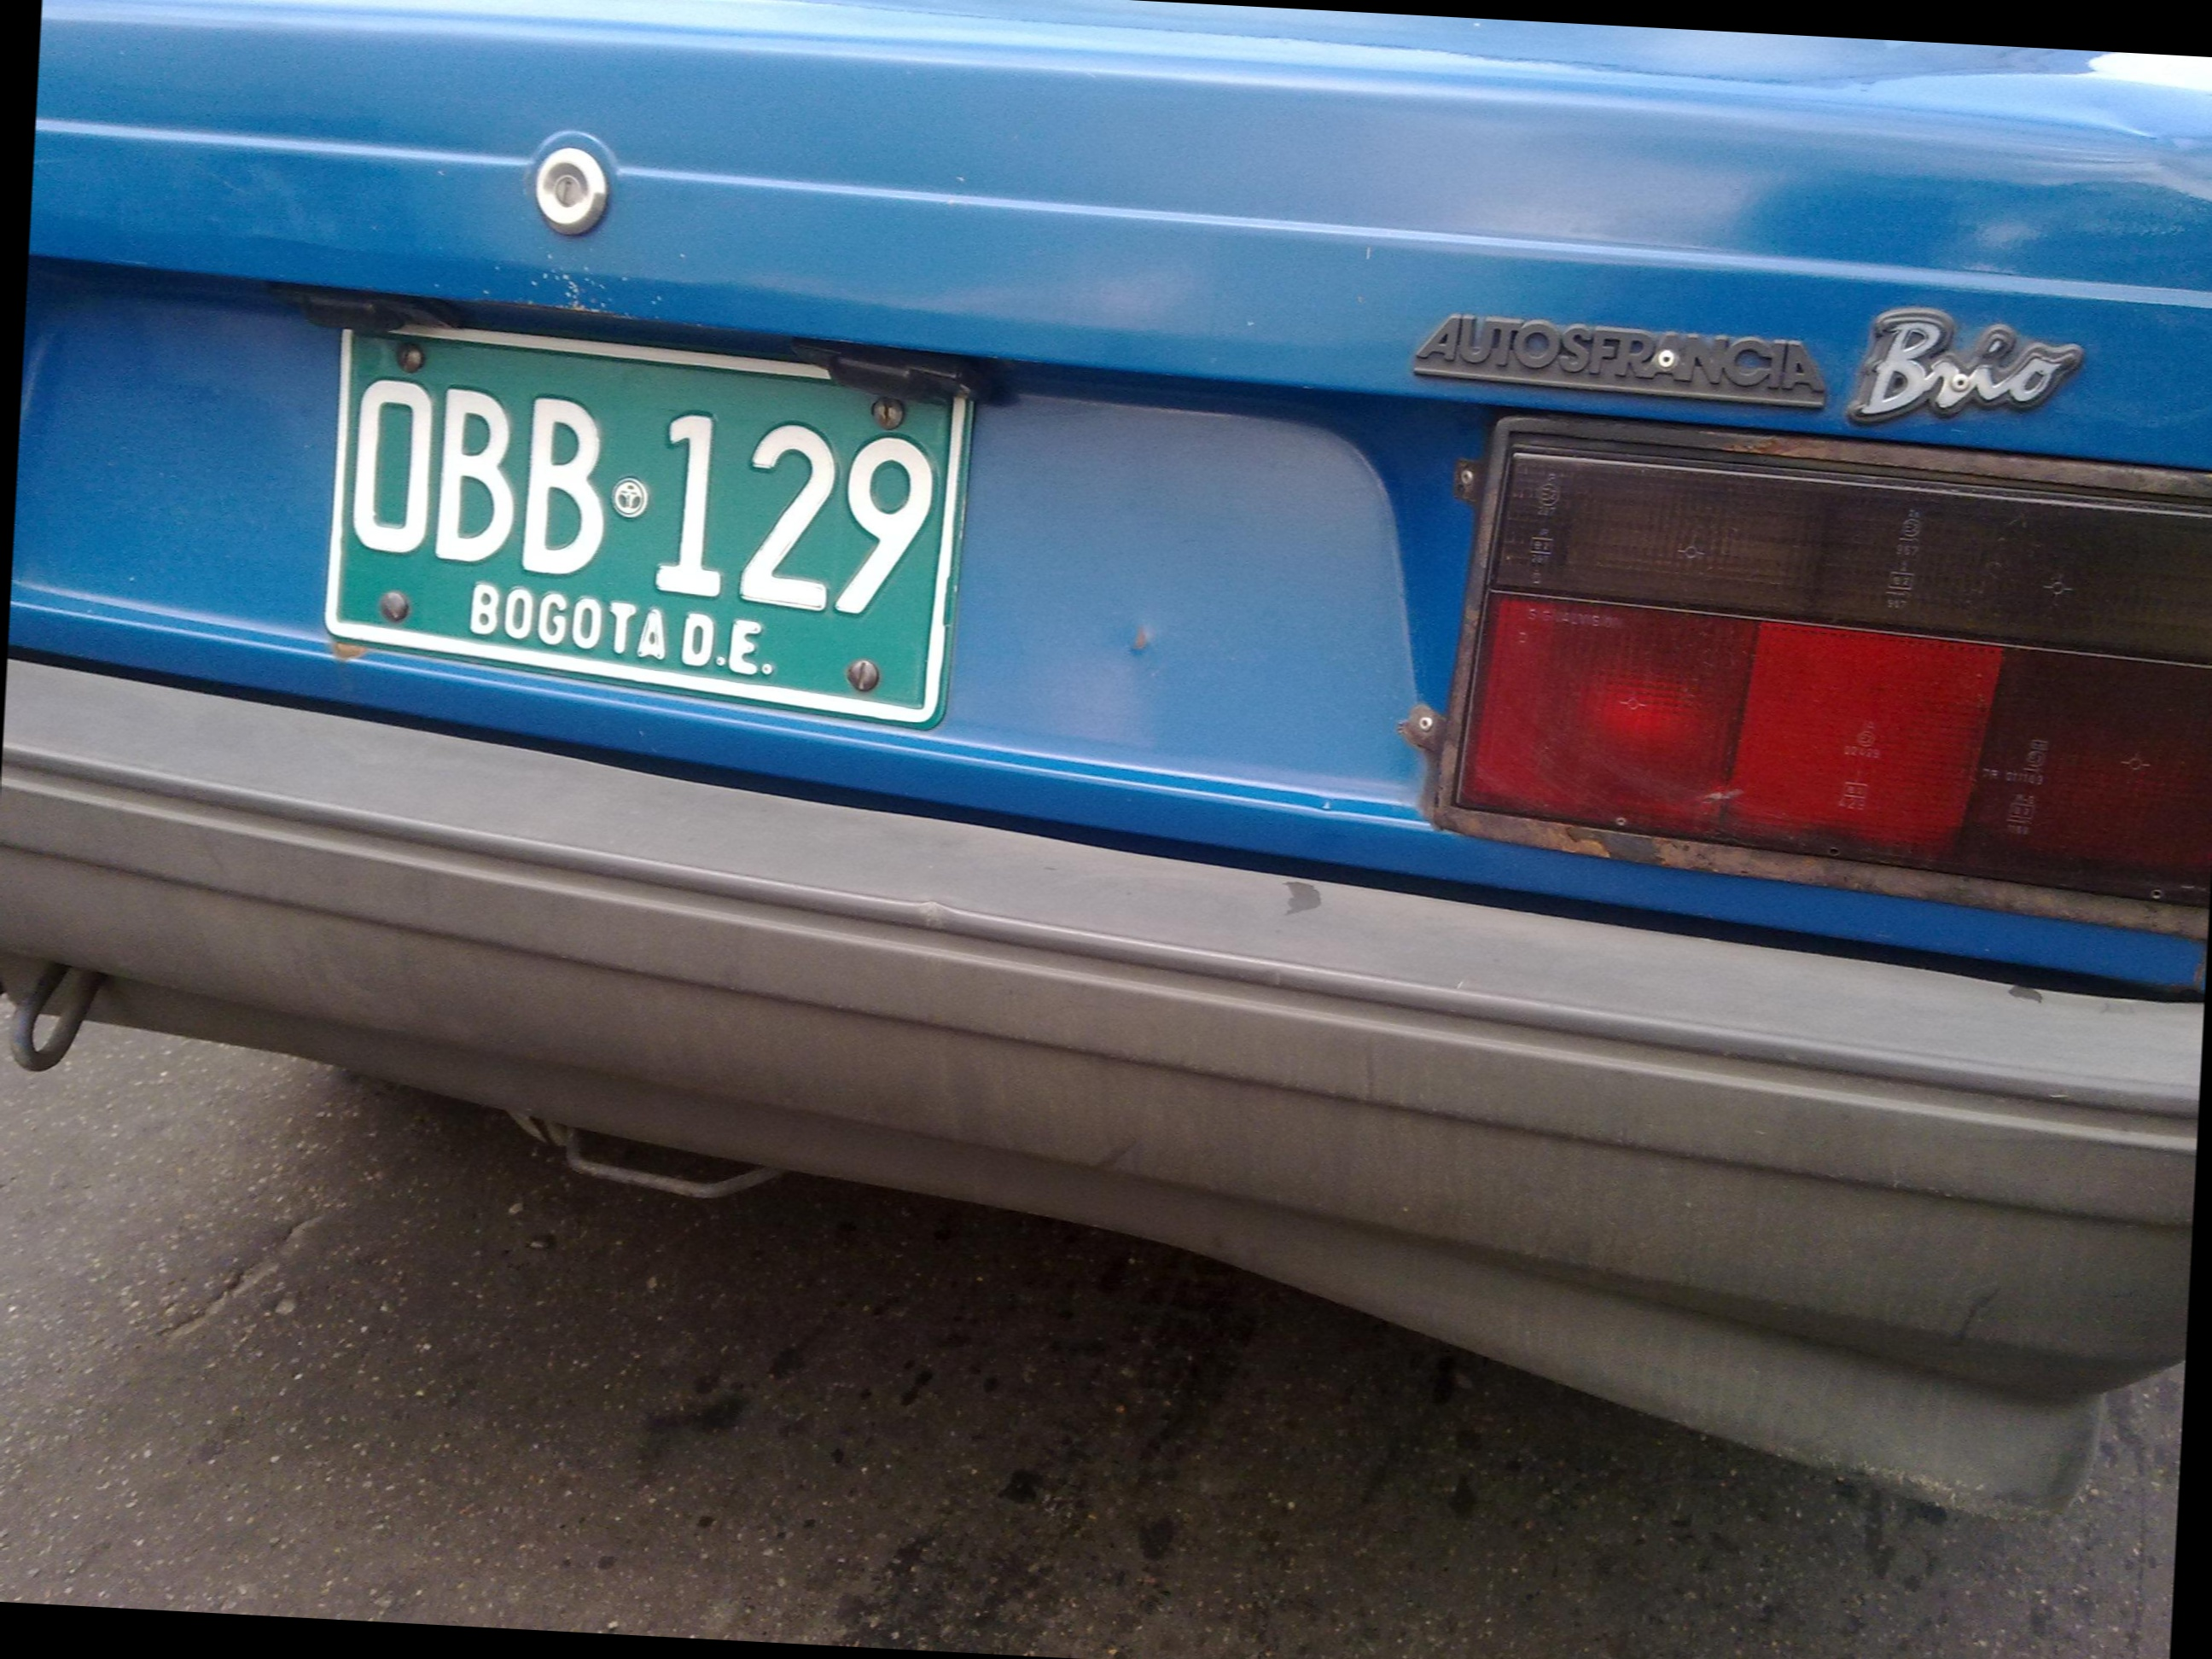placas: (311, 306, 983, 750)
